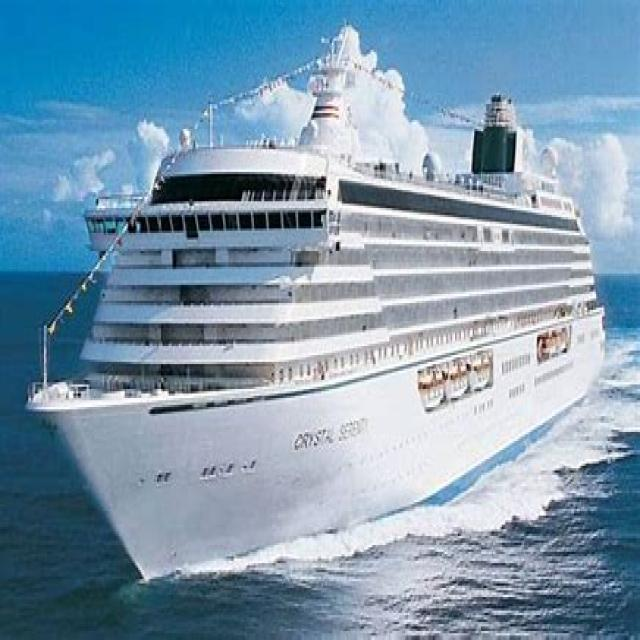PassengerShip: (32, 60, 640, 503)
